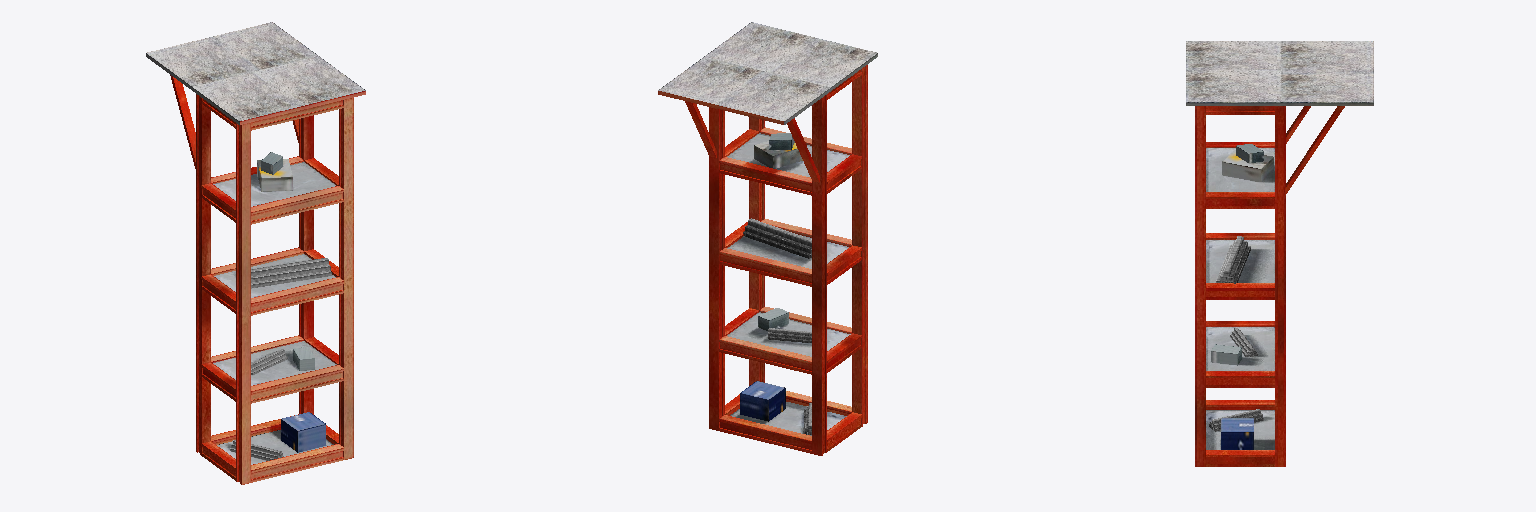
3 renders of one model, left to right at view 1: azimuth 30°, elevation 25°; view 2: azimuth 150°, elevation 25°; view 3: azimuth 270°, elevation 25°, orthographic.
Size of the model in its own units: 21.43 by 59.58 by 27.46.
Materials: 1 (1 with a texture image).